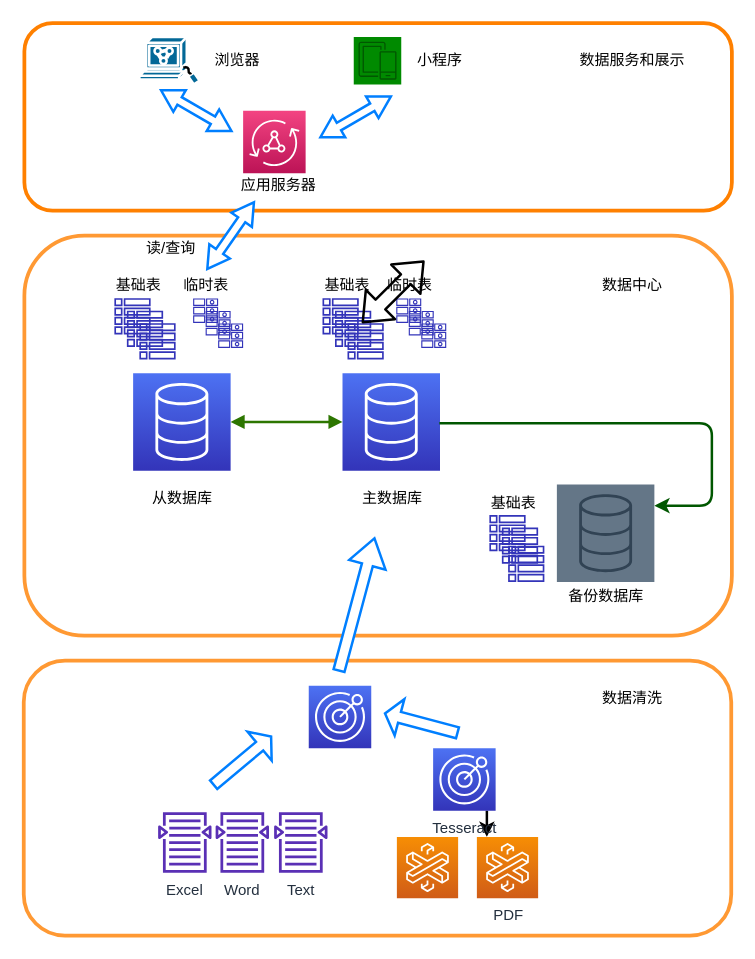
This 755x959 diagram has some shape labels left out. The shapes that lost their labels are listed below. From the top down, each one's box as (x1, y1, x2, y2) in pixels, then its label:
(308, 684, 371, 748): Python 转换
(396, 836, 458, 898): 图片
